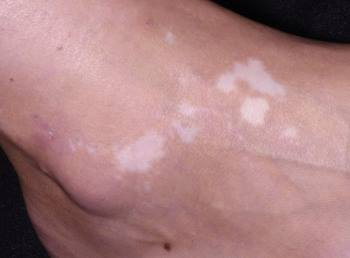vitiligo: (90, 6, 288, 192)
